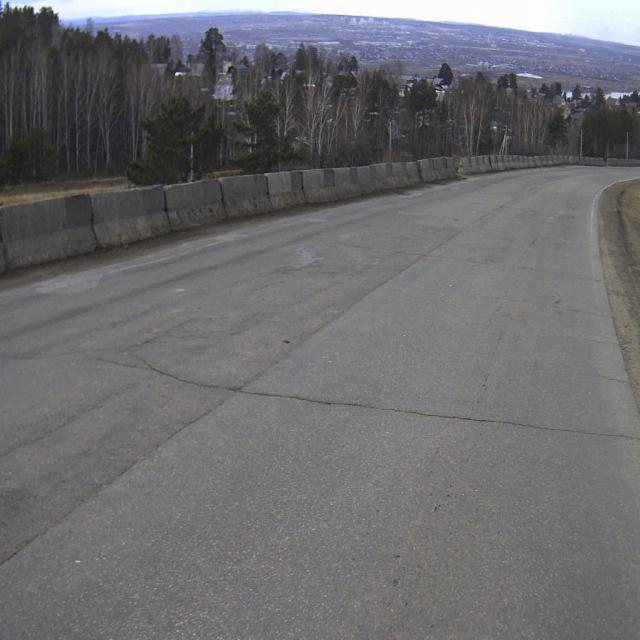road: (0, 166, 640, 639)
